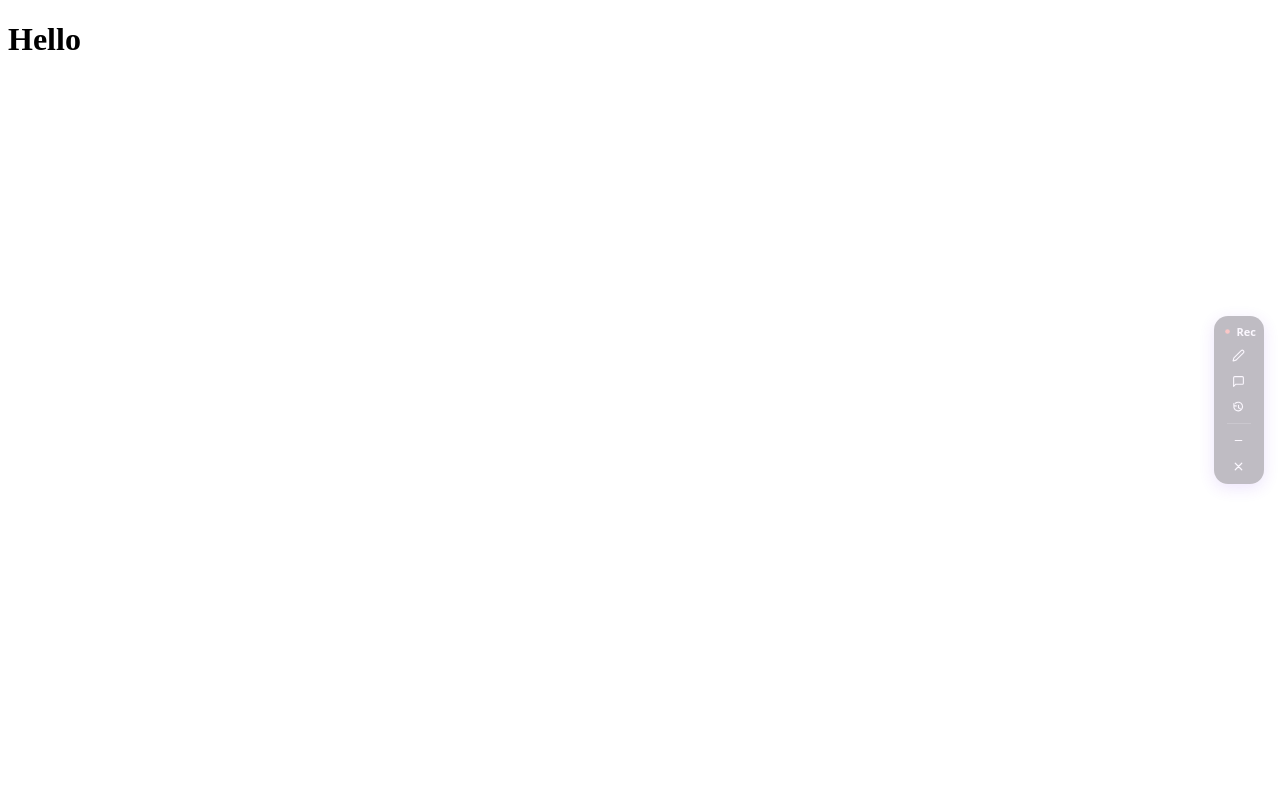
save failure → Resend › re-delivers an edit batch after the first save fails
Click the button named "Edit" at (1239, 355), box [1228,344,1250,366]
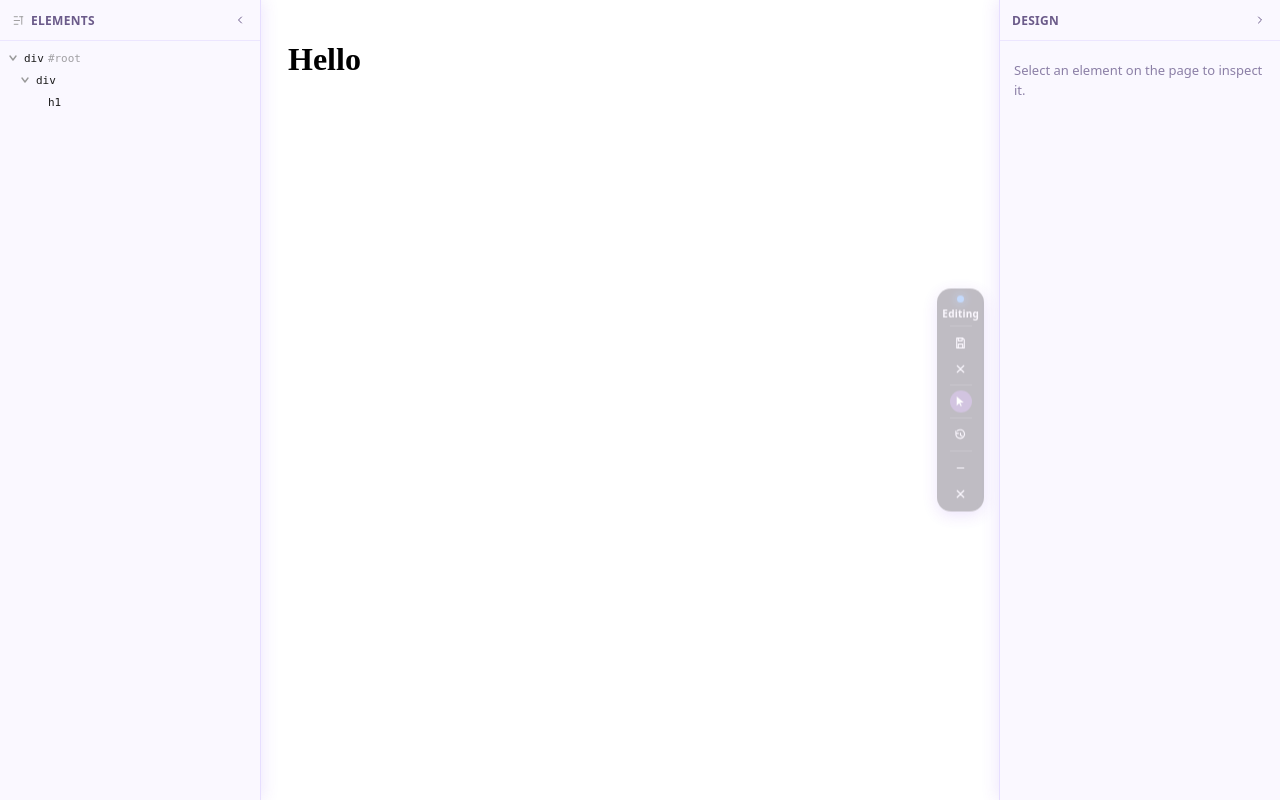
Expected: the element with class "editing" is shown, [937,288,984,512]
Click the button named "Save" at (961, 342), box [950,332,972,354]
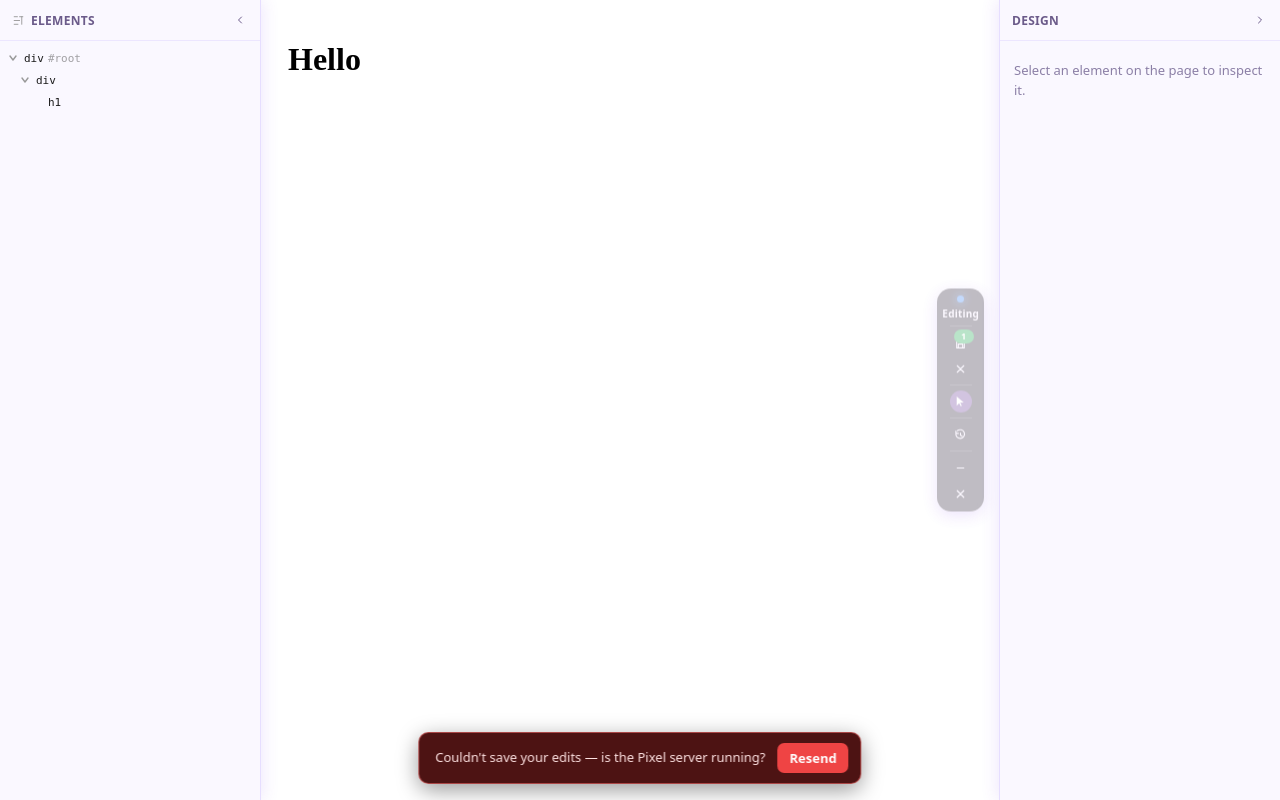
Now the button "Resend" is shown
Click the button "Resend" at (813, 758), box [778,743,849,773]
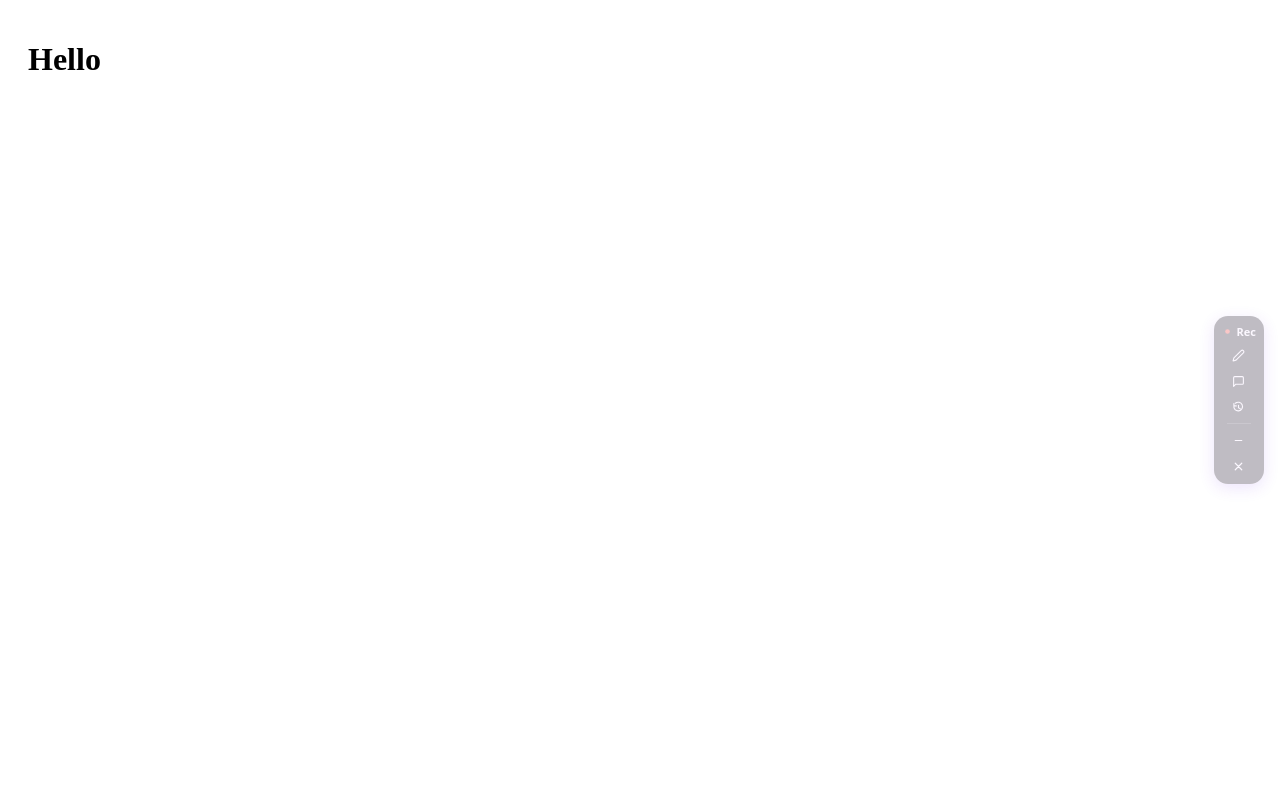
Now the button "Resend" is gone
